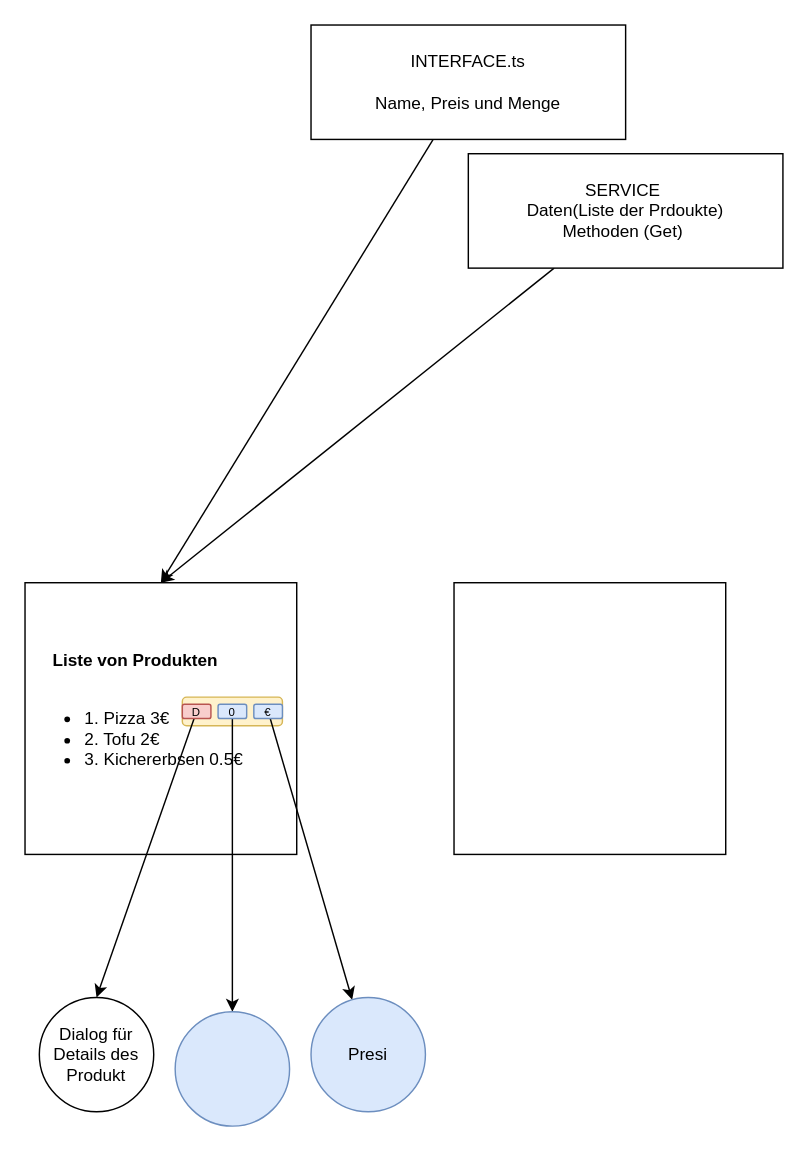
The diagram is 808 pixels wide and 1151 high, and some of its shapes have lost their labels. The centre of each missing label's shape, as x and y in pixels:
Busket! Liste der gekauften Produkte und Menge! 2 x Pizzen 6€: point (589, 717)
Menge: point (232, 1068)
